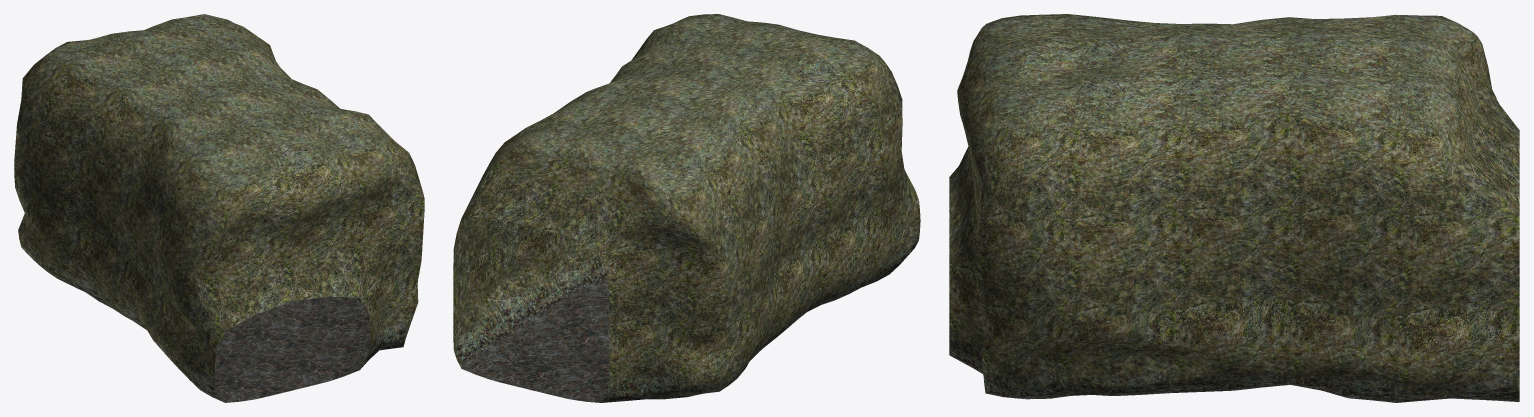
The model's file is thm_all_cave_s03_damprock_mirror_r10_r10.fbx.
3 views of the same model, side by side, from view 1: azimuth 30°, elevation 25°; view 2: azimuth 150°, elevation 25°; view 3: azimuth 270°, elevation 25° (orthographic). The views are drawn at different scales.
Visible parts, largest first — view 1: mesh_node; view 2: mesh_node; view 3: mesh_node.
Part boxes in pixels (left/top/right/bottom): mesh_node: left=14, top=14, right=424, bottom=402; mesh_node: left=453, top=14, right=920, bottom=402; mesh_node: left=949, top=14, right=1519, bottom=402.
Size of the model in its own units: 27.52 by 23.69 by 40.81.
